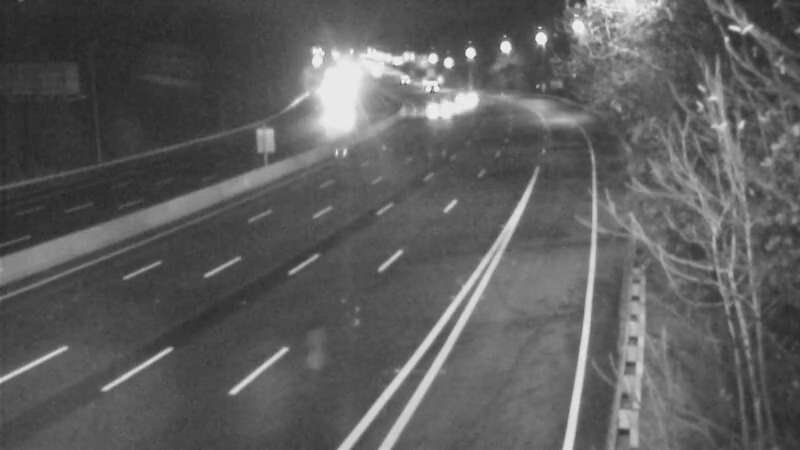vehicle: (403, 62, 453, 112), (435, 73, 485, 123), (413, 85, 463, 135)
